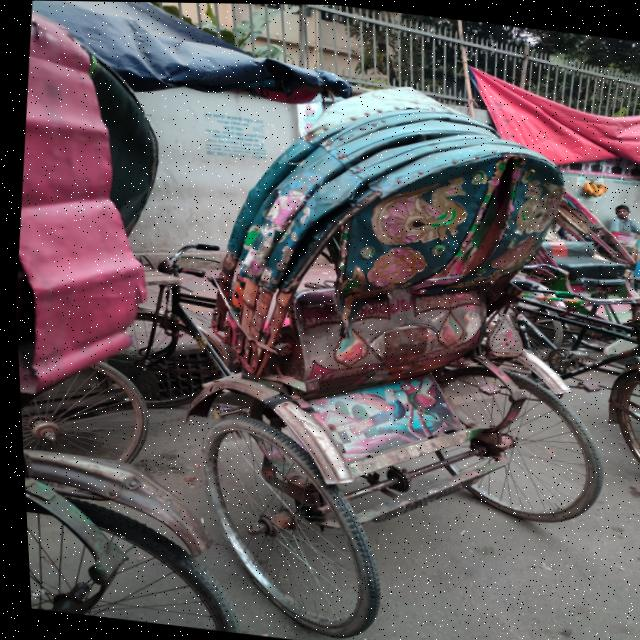rikshaw: (56, 51, 619, 626)
